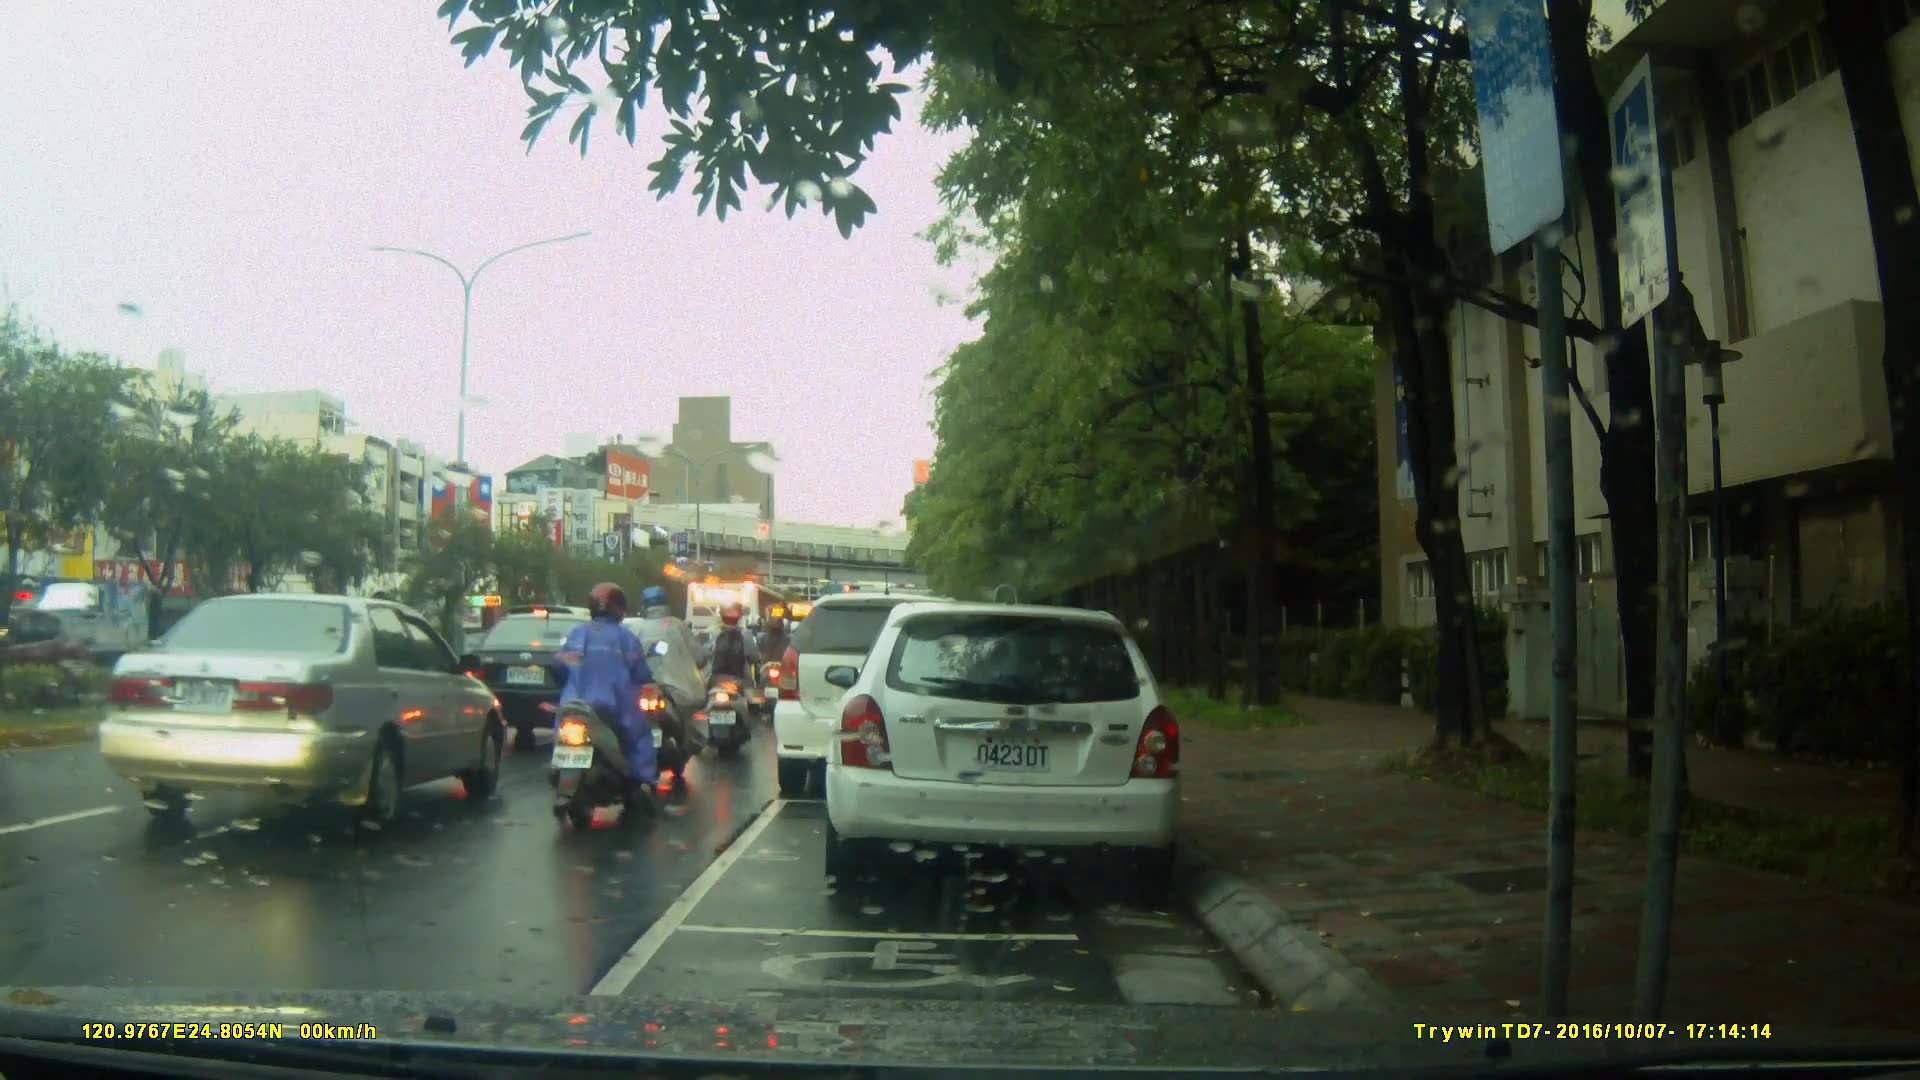rider: (545, 579, 657, 830), (641, 585, 722, 777), (695, 600, 757, 743), (757, 612, 795, 716)
vehicle: (831, 592, 1196, 897), (96, 591, 513, 834), (769, 592, 999, 800), (457, 609, 635, 747), (683, 580, 803, 706), (4, 604, 88, 715)
